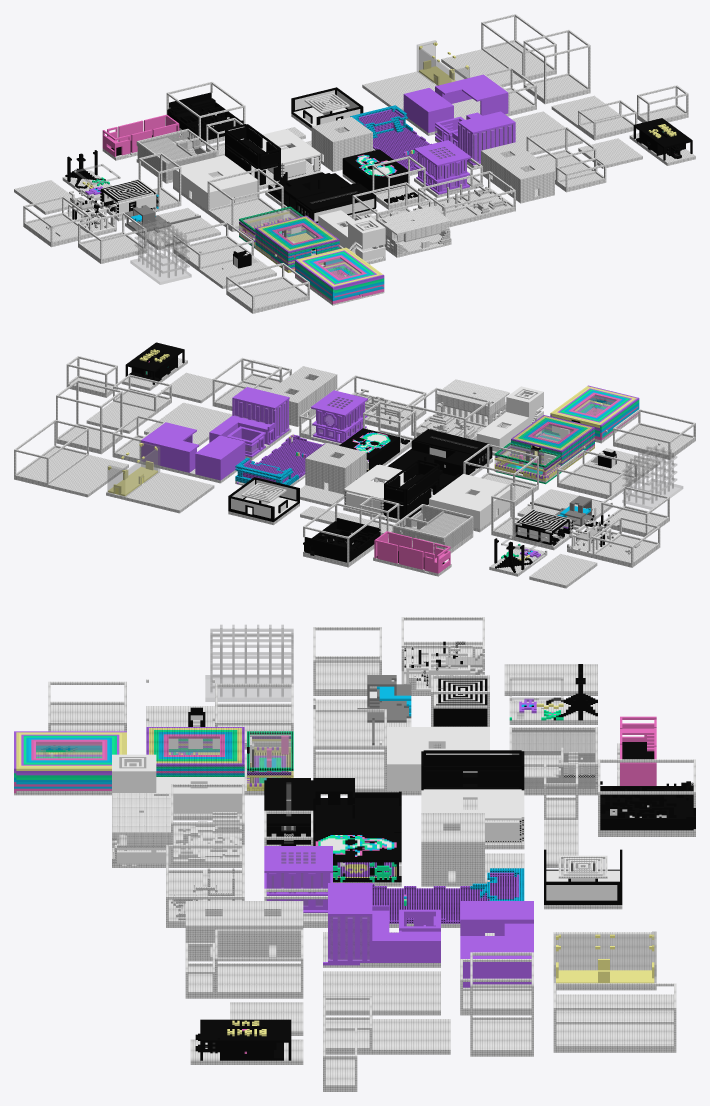
The model's file is Punks-v1.glb.
3 views of the same model, one above another, from view 1: azimuth 30°, elevation 25°; view 2: azimuth 150°, elevation 25°; view 3: azimuth 270°, elevation 25° (orthographic). The views are drawn at different scales.
Parts seen in each view (by area): view 1: solid-voxels_39.020, solid-voxels_36.020, solid-voxels_38.020, solid-voxels_46.020, glass-voxels.021, solid-voxels_54.015, solid-voxels_26.020, solid-voxels_40.020, solid-voxels_58.014, solid-voxels_44.020, solid-voxels_35.020, solid-voxels_11.021 (+50 smaller); view 2: solid-voxels_39.020, solid-voxels_40.020, solid-voxels_36.020, solid-voxels_38.020, solid-voxels_46.020, solid-voxels_59.014, glass-voxels.021, solid-voxels_60.014, solid-voxels_44.020, solid-voxels_35.020, solid-voxels_14.021, solid-voxels_11.021 (+54 smaller); view 3: solid-voxels_36.020, solid-voxels_40.020, solid-voxels_39.020, solid-voxels_59.014, solid-voxels_44.020, solid-voxels_1.021, glass-voxels.021, solid-voxels_45.020, solid-voxels_46.020, solid-voxels_14.021, solid-voxels_26.020, solid-voxels_35.020 (+54 smaller).
Boxes of the visible parts, x1,y1,x2,y2 form: solid-voxels_39.020: [403, 74, 508, 135]; solid-voxels_36.020: [295, 247, 384, 305]; solid-voxels_38.020: [173, 155, 257, 213]; solid-voxels_46.020: [255, 215, 339, 272]; glass-voxels.021: [130, 218, 191, 284]; solid-voxels_54.015: [418, 171, 515, 227]; solid-voxels_26.020: [377, 206, 451, 257]; solid-voxels_40.020: [166, 82, 245, 146]; solid-voxels_58.014: [414, 140, 471, 197]; solid-voxels_44.020: [136, 128, 217, 183]; solid-voxels_35.020: [225, 124, 280, 189]; solid-voxels_11.021: [226, 263, 309, 313]; solid-voxels_39.020: [141, 422, 245, 483]; solid-voxels_40.020: [303, 502, 381, 567]; solid-voxels_36.020: [550, 385, 639, 443]; solid-voxels_38.020: [429, 474, 514, 532]; solid-voxels_46.020: [511, 415, 594, 470]; solid-voxels_59.014: [224, 387, 291, 449]; glass-voxels.021: [622, 445, 682, 509]; solid-voxels_60.014: [228, 477, 299, 524]; solid-voxels_44.020: [392, 504, 473, 553]; solid-voxels_35.020: [383, 459, 439, 523]; solid-voxels_14.021: [305, 443, 366, 494]; solid-voxels_11.021: [613, 409, 695, 459]; solid-voxels_36.020: [14, 731, 126, 795]; solid-voxels_40.020: [598, 759, 695, 836]; solid-voxels_39.020: [460, 901, 533, 987]; solid-voxels_59.014: [323, 883, 396, 967]; solid-voxels_44.020: [509, 727, 597, 795]; solid-voxels_1.021: [553, 983, 676, 1052]; glass-voxels.021: [205, 625, 293, 701]; solid-voxels_45.020: [190, 1019, 303, 1064]; solid-voxels_46.020: [146, 727, 244, 776]; solid-voxels_14.021: [421, 813, 484, 886]; solid-voxels_26.020: [112, 793, 170, 867]; solid-voxels_35.020: [421, 750, 524, 809].
Size of the model in its own units: 214 by 16 by 139.
2 materials, 1 textured.
